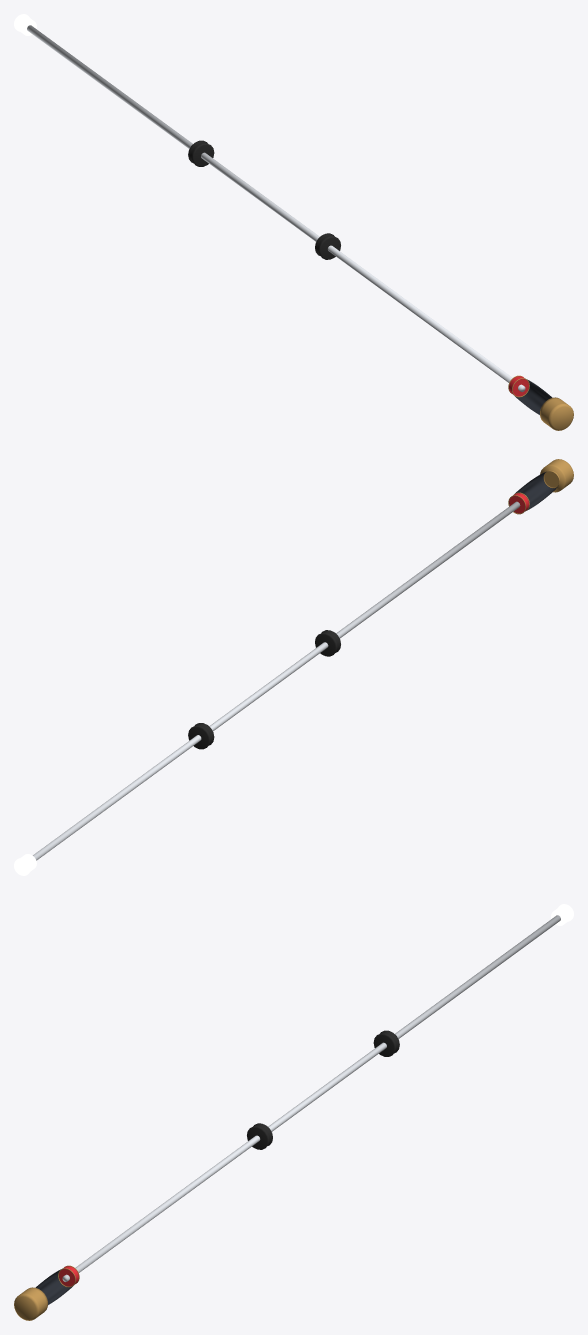
File: fuzeball_rod_2man.glb
3 renders of one model, top to bottom at view 1: azimuth 30°, elevation 25°; view 2: azimuth 150°, elevation 25°; view 3: azimuth 330°, elevation 25°, orthographic.
Parts seen in each view (by area): view 1: rod2_bar.002, rod2_knob.002, rod2_handle_comet_grip; view 2: rod2_bar.002, rod2_handle_comet_grip, rod2_knob.002; view 3: rod2_bar.002, rod2_knob.002, rod2_handle_comet_grip.
Part boxes in pixels (box(x1,y1,x2,y2)): rod2_bar.002: box(27, 25, 525, 391); rod2_knob.002: box(540, 397, 573, 430); rod2_handle_comet_grip: box(515, 378, 551, 414); rod2_bar.002: box(33, 501, 520, 860); rod2_handle_comet_grip: box(509, 471, 558, 513); rod2_knob.002: box(540, 459, 573, 492); rod2_bar.002: box(62, 915, 560, 1281); rod2_knob.002: box(14, 1287, 47, 1320); rod2_handle_comet_grip: box(36, 1268, 72, 1304).
Size of the model in its own units: 3.4 by 3.4 by 128.
